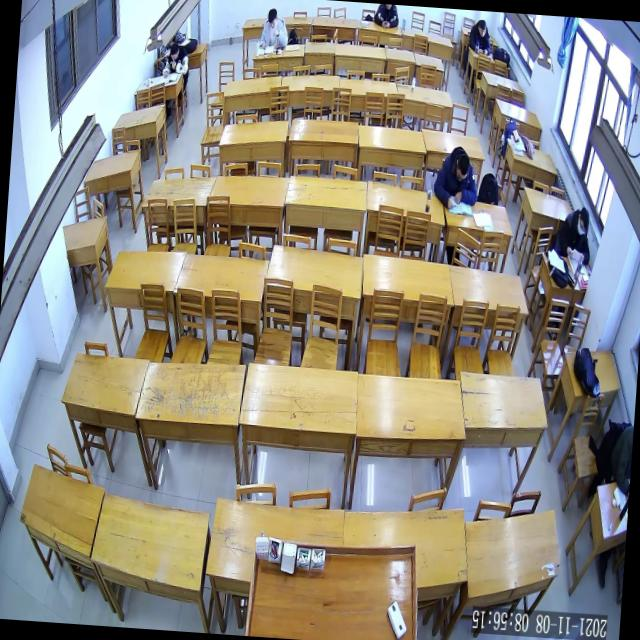bow: (432, 144, 481, 209)
down: (456, 152, 470, 182), (576, 206, 590, 236), (266, 8, 278, 28), (477, 18, 487, 38), (169, 41, 179, 60)
sit: (556, 204, 593, 265), (258, 7, 290, 50), (162, 41, 192, 80), (468, 18, 492, 56)
